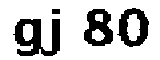0: (117, 5, 154, 53)
8: (81, 6, 116, 48)
g: (9, 16, 43, 57)
j: (43, 4, 66, 58)
